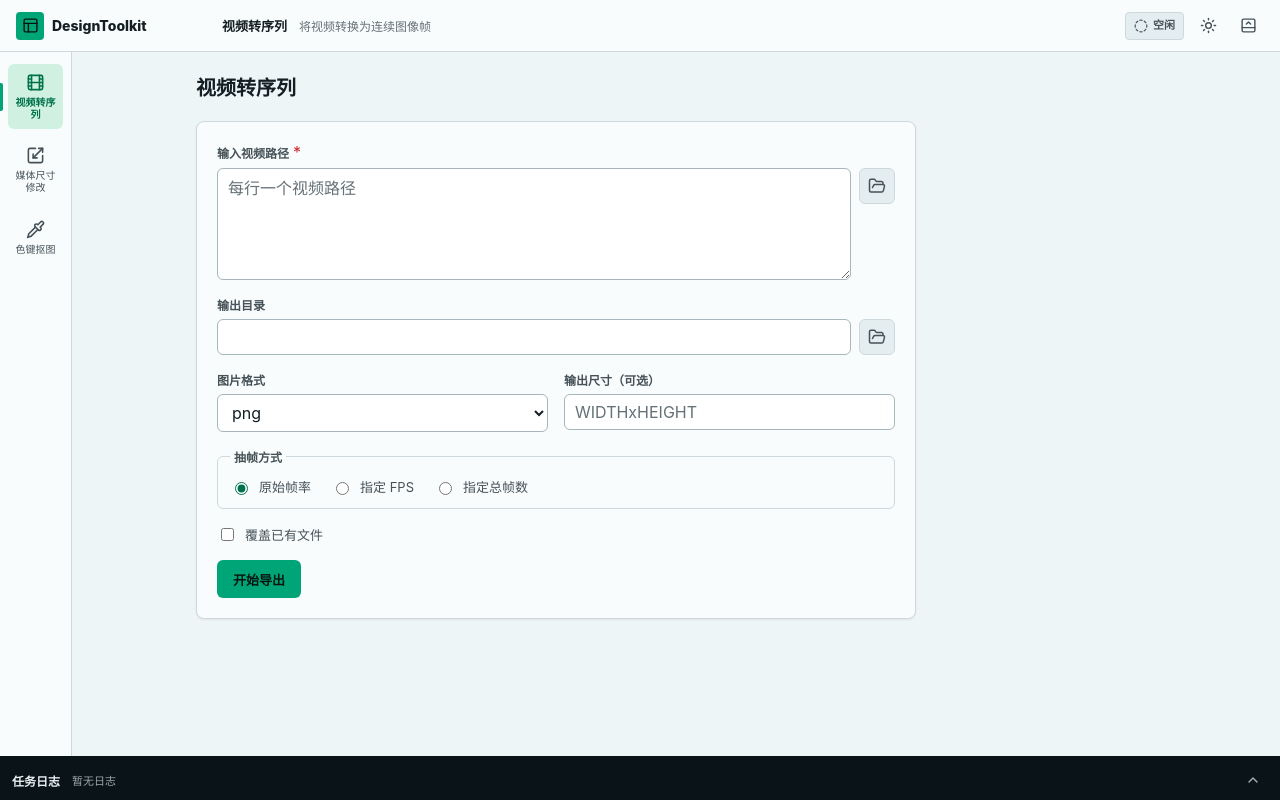
Test: AppShell › shows the active module in the command bar
The width and height of the screenshot is (1280, 800).
Expected: the header shows "视频转序列", [222,18,287,34]
Click the button "媒体尺寸修改": (36, 170) [8,137,63,202]
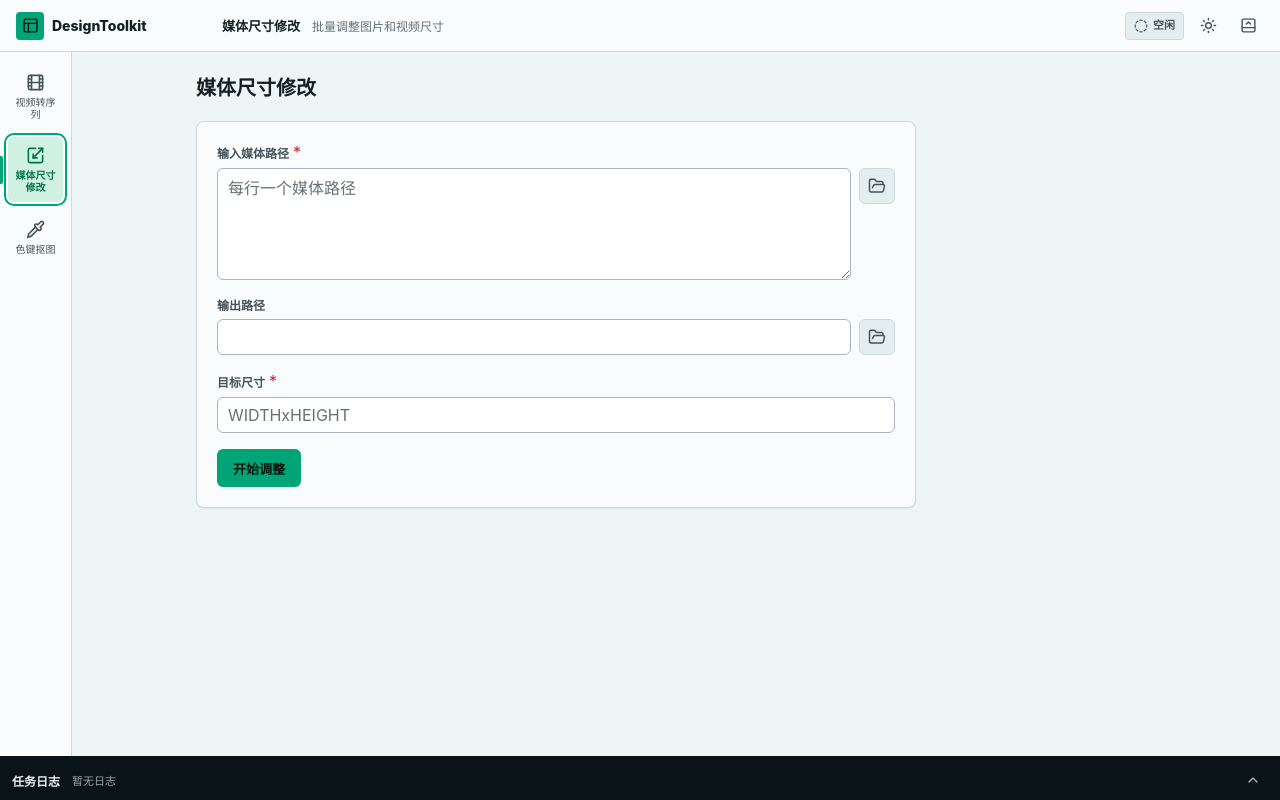
Expected: the header shows "媒体尺寸修改", [222,18,300,34]
